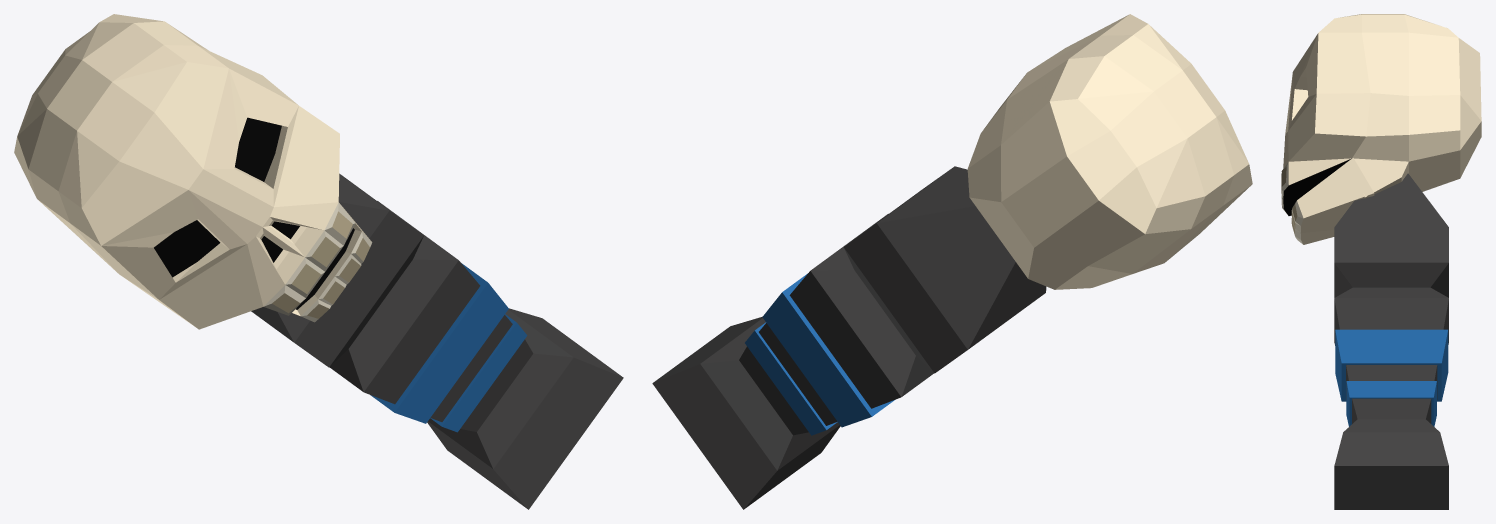
File: LowPoly_Tower_Blue.fbx
3 renders of one model, left to right at view 1: azimuth 30°, elevation 25°; view 2: azimuth 150°, elevation 25°; view 3: azimuth 270°, elevation 25°, orthographic. The views are drawn at different scales.
Parts seen in each view (by area): view 1: Pillar01RedD__1_; view 2: Pillar01RedD__1_; view 3: Pillar01RedD__1_.
Boxes of the visible parts, x1,y1,x2,y2 form: Pillar01RedD__1_: (14,14,623,509); Pillar01RedD__1_: (652,14,1252,509); Pillar01RedD__1_: (1281,14,1481,509).
Bounding box in the file's own units: 1847 × 1730 × 833.
